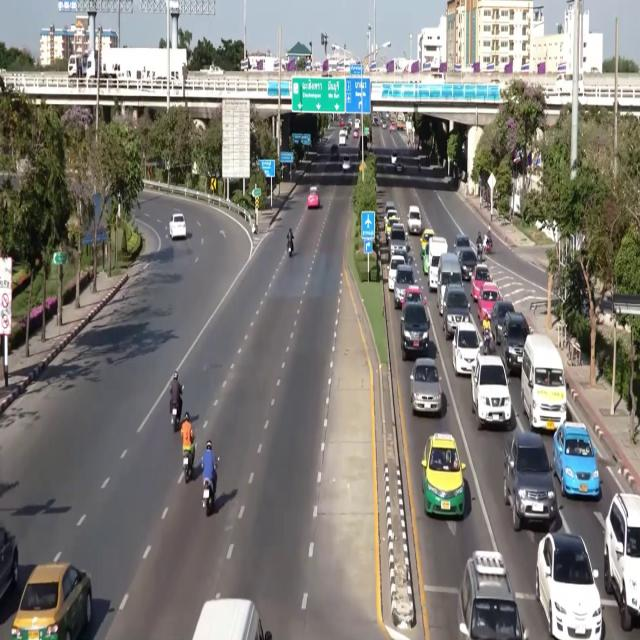car: (536, 532, 602, 639), (456, 551, 529, 639), (12, 563, 92, 639), (504, 431, 558, 531), (603, 494, 639, 631), (422, 433, 466, 517), (552, 422, 600, 497), (471, 353, 511, 429), (496, 312, 529, 375), (410, 358, 441, 414), (401, 303, 429, 360), (442, 284, 469, 339), (453, 322, 479, 375), (0, 526, 18, 599), (491, 300, 514, 344), (394, 264, 414, 309), (477, 281, 500, 320), (471, 264, 491, 301), (388, 255, 406, 291), (389, 223, 408, 255), (458, 248, 477, 280), (402, 286, 426, 309), (420, 228, 436, 256), (169, 213, 186, 239), (385, 209, 399, 238), (454, 234, 472, 254), (394, 248, 412, 264), (307, 187, 320, 209), (384, 200, 396, 216), (330, 144, 338, 161), (342, 156, 350, 172), (395, 159, 404, 173), (391, 152, 398, 165), (389, 123, 395, 131), (353, 129, 358, 138), (373, 117, 378, 126), (382, 121, 386, 129), (348, 119, 352, 127), (340, 119, 343, 127)
scooty: (202, 479, 215, 516), (484, 329, 490, 355)
truck: (100, 48, 167, 79), (68, 54, 87, 78), (397, 112, 404, 130)
